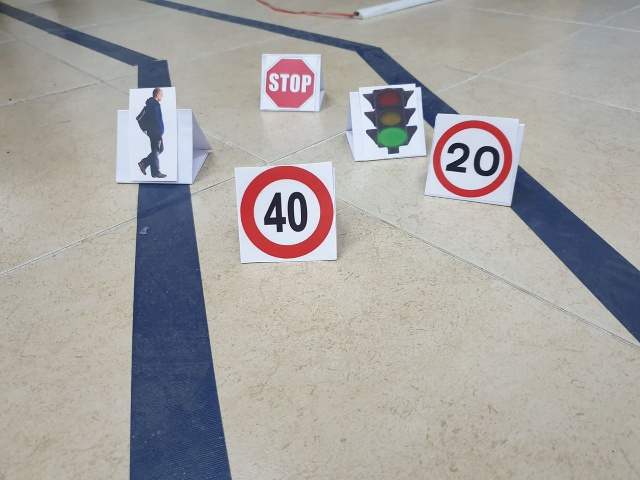Green: (360, 82, 421, 157)
Limit 20: (433, 120, 511, 205)
Limit 40: (239, 169, 336, 259)
Person: (128, 87, 175, 181)
Stop: (268, 55, 317, 113)
